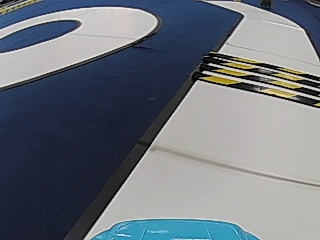bump: (213, 56, 306, 97)
